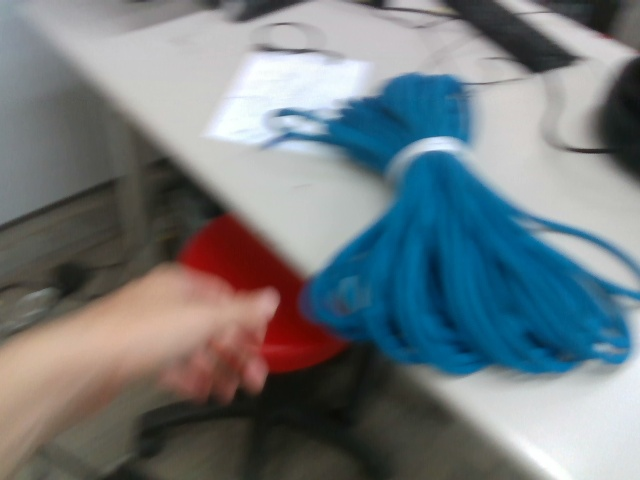rope: (259, 71, 640, 379)
